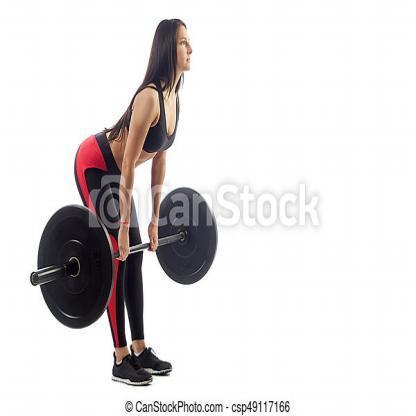barbell: (30, 187, 219, 331)
